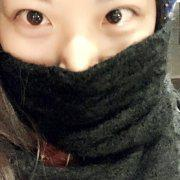WRONG: (3, 1, 159, 139)
